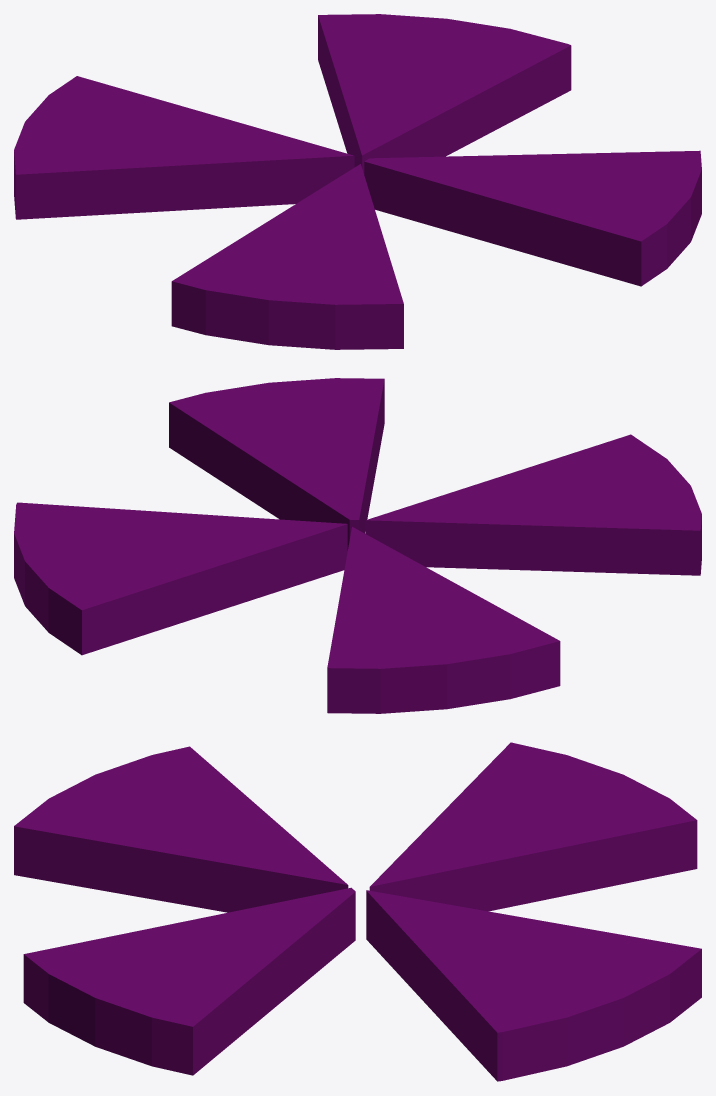
The model's file is CylinderFourSlice.glb.
The picture shows the model from 3 angles, top to bottom: view 1: azimuth 30°, elevation 25°; view 2: azimuth 150°, elevation 25°; view 3: azimuth 270°, elevation 25°; orthographic projection. The views are drawn at different scales.
Visible parts, largest first — view 1: Cylinder; view 2: Cylinder; view 3: Cylinder.
Part boxes in pixels (box(x1,y1,x2,y2)): Cylinder: box(14, 14, 701, 349); Cylinder: box(14, 378, 701, 713); Cylinder: box(14, 742, 701, 1081).
Size of the model in its own units: 1.84 by 0.1441 by 1.84.
